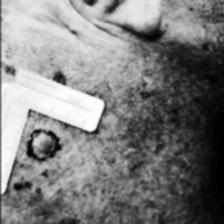Potentially Malignant Skin Tumors: (32, 134, 54, 156)
